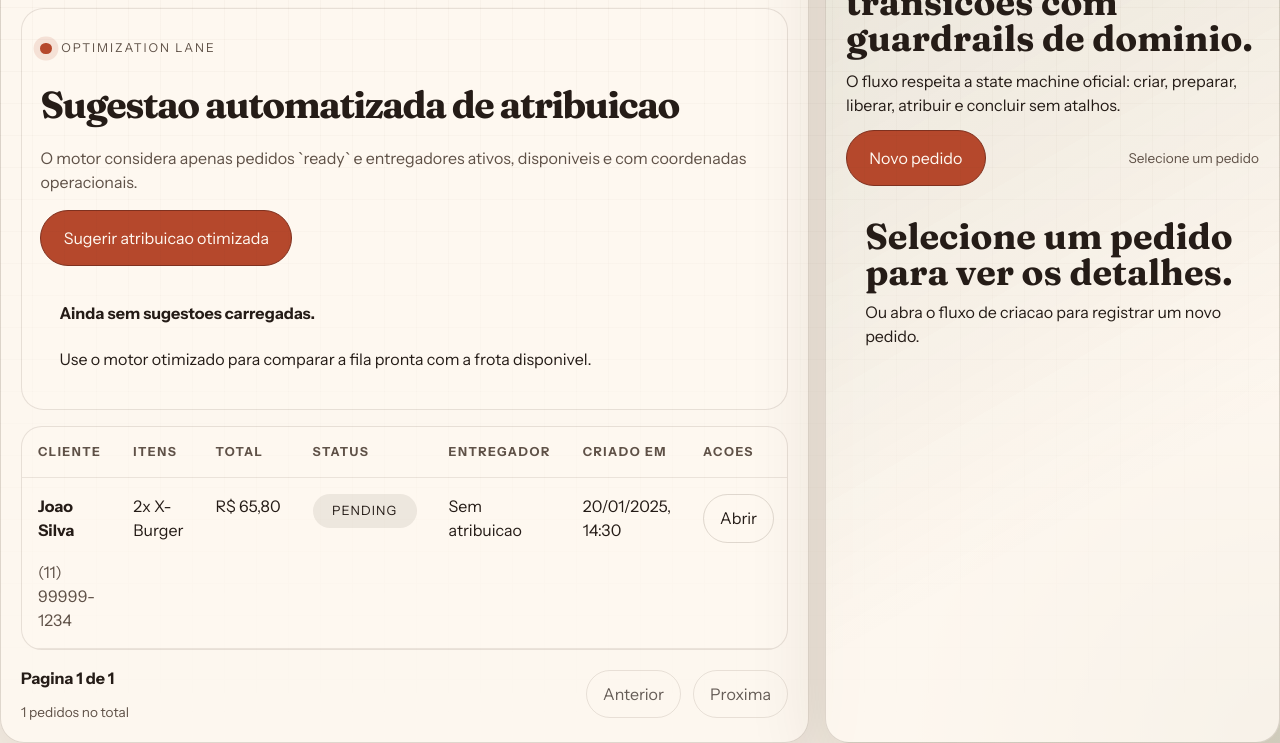
OrdersPage › runs a contextual status transition for admins
(page scrolled)
Check: the text "Joao Silva" is shown, box [38,496,74,540]
Click the button "Abrir" at (738, 518), box [703,494,774,543]
(page scrolled)
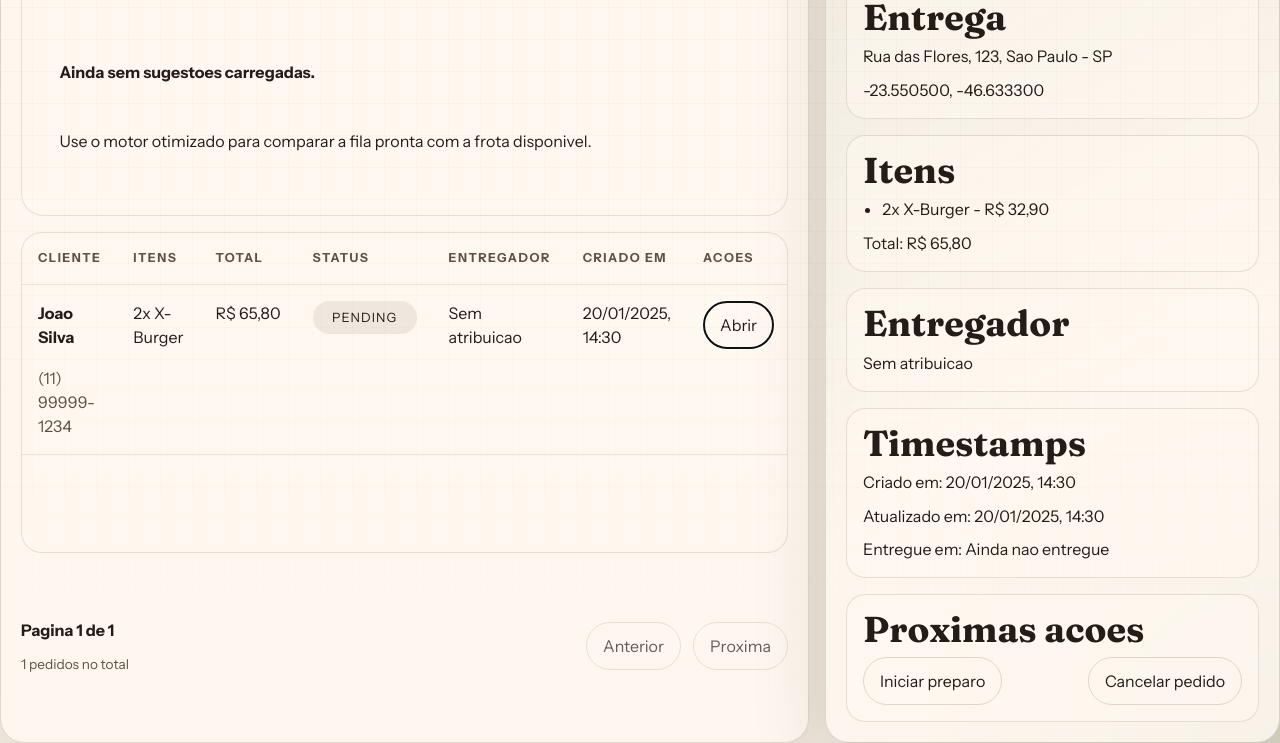
Click the button "Iniciar preparo" at (933, 681), box [863,657,1002,705]
(page scrolled)
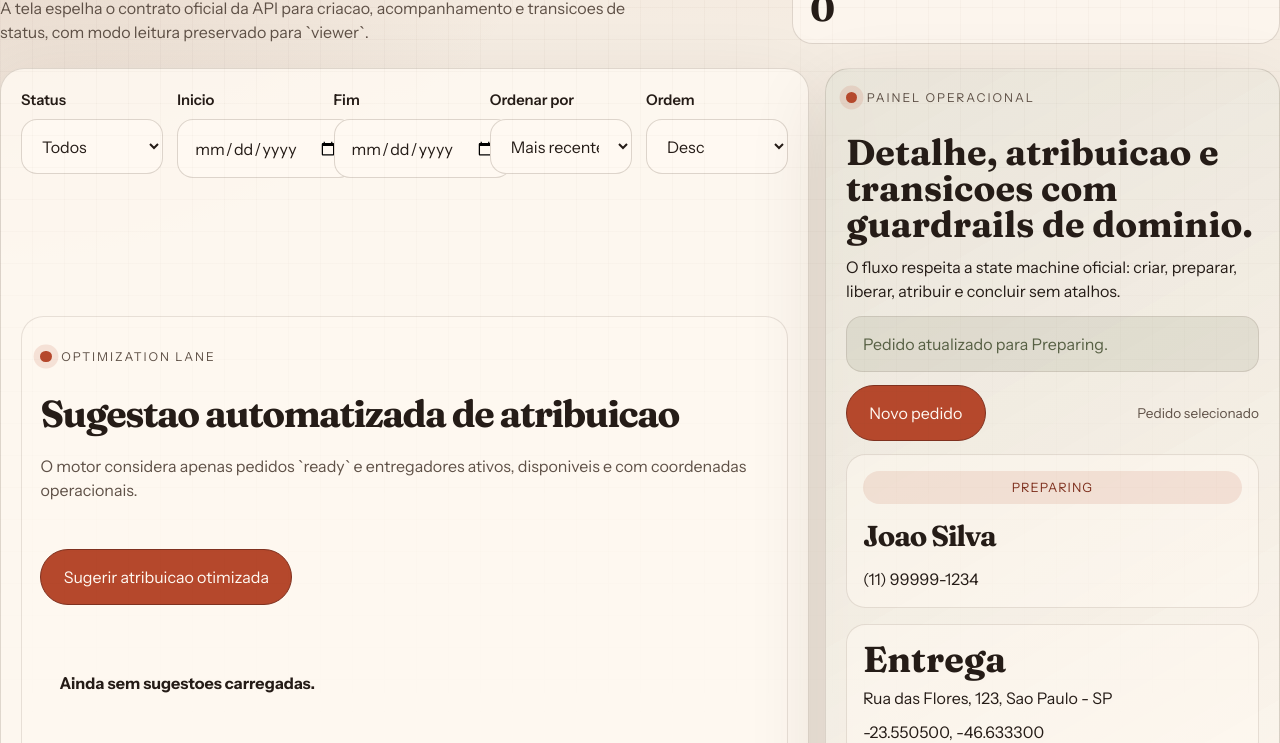
Check: the text "Pedido atualizado para Preparing." is shown, box [846,316,1259,372]
